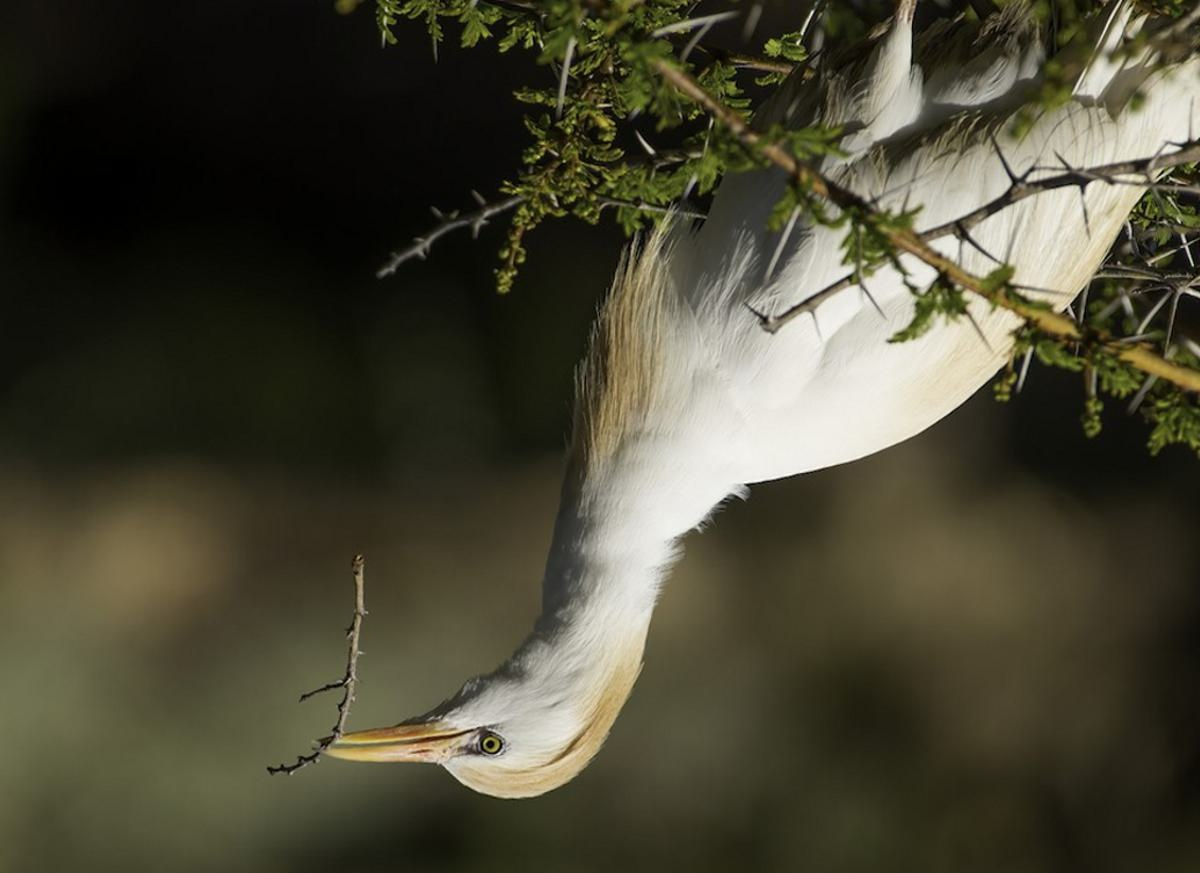egret: (293, 39, 1200, 802)
